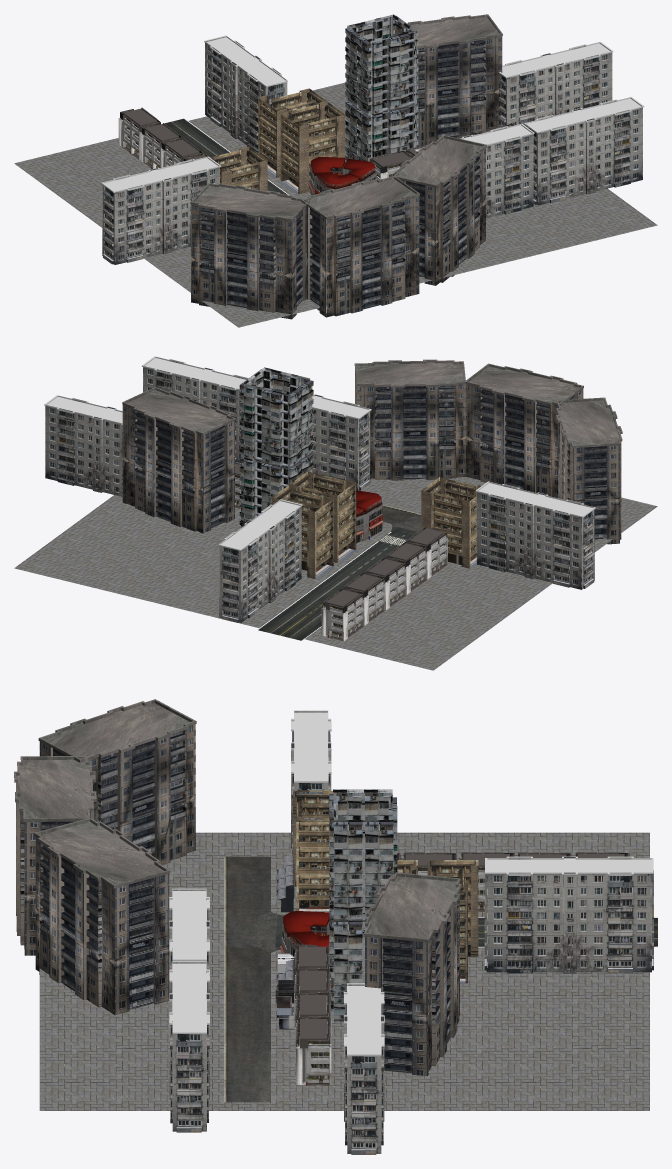
File: street-set.glb
3 renders of one model, top to bottom at view 1: azimuth 30°, elevation 25°; view 2: azimuth 150°, elevation 25°; view 3: azimuth 270°, elevation 25°, orthographic. The views are drawn at different scales.
Visible parts, largest first — view 1: Cube_da2642e543a3f06231cecae91a2562d4_0, Cube.003_56ef4e30bfca8ac25300c77d7c17d7bc_0, Plane.001_Material.006_0, Cube_Material.003_0, 1 (1)_1 (1)_0, 2 (1).001_2 (1)_0, Cube.003_Material.004_0, Cube.001_c83d86f3dd59d547cc310ce502d8f9ac_0, object 4, Cube.001_Material.007_0, Plane_Material.005_0; view 2: Cube_da2642e543a3f06231cecae91a2562d4_0, Plane.001_Material.006_0, Cube.003_56ef4e30bfca8ac25300c77d7c17d7bc_0, Cube_Material.003_0, 2 (1).001_2 (1)_0, 1 (1)_1 (1)_0, Cube.003_Material.004_0, Cube.001_c83d86f3dd59d547cc310ce502d8f9ac_0, Plane_Material.005_0, Cube.001_Material.007_0, object 4; view 3: Plane.001_Material.006_0, Cube_da2642e543a3f06231cecae91a2562d4_0, Cube.003_56ef4e30bfca8ac25300c77d7c17d7bc_0, Cube_Material.003_0, Cube.003_Material.004_0, Plane_Material.005_0, 1 (1)_1 (1)_0, 2 (1).001_2 (1)_0, Cube.001_c83d86f3dd59d547cc310ce502d8f9ac_0, Cube.001_Material.007_0, object 4, 4_4_0.
Boxes of the visible parts, bbox=[...] form: Cube_da2642e543a3f06231cecae91a2562d4_0: bbox=[191, 36, 502, 319]; Cube.003_56ef4e30bfca8ac25300c77d7c17d7bc_0: bbox=[102, 36, 642, 264]; Plane.001_Material.006_0: bbox=[14, 82, 657, 327]; Cube_Material.003_0: bbox=[190, 14, 502, 221]; 1 (1)_1 (1)_0: bbox=[345, 14, 418, 161]; 2 (1).001_2 (1)_0: bbox=[210, 88, 345, 194]; Cube.003_Material.004_0: bbox=[101, 35, 644, 192]; Cube.001_c83d86f3dd59d547cc310ce502d8f9ac_0: bbox=[118, 107, 514, 179]; object 4: bbox=[308, 157, 376, 195]; Cube.001_Material.007_0: bbox=[123, 108, 511, 167]; Plane_Material.005_0: bbox=[161, 118, 289, 195]; Cube_da2642e543a3f06231cecae91a2562d4_0: bbox=[122, 369, 621, 544]; Plane.001_Material.006_0: bbox=[14, 462, 657, 670]; Cube.003_56ef4e30bfca8ac25300c77d7c17d7bc_0: bbox=[45, 360, 594, 622]; Cube_Material.003_0: bbox=[122, 359, 622, 448]; 2 (1).001_2 (1)_0: bbox=[272, 471, 481, 579]; 1 (1)_1 (1)_0: bbox=[239, 367, 313, 527]; Cube.003_Material.004_0: bbox=[44, 356, 595, 550]; Cube.001_c83d86f3dd59d547cc310ce502d8f9ac_0: bbox=[235, 462, 447, 641]; Plane_Material.005_0: bbox=[257, 505, 421, 640]; Cube.001_Material.007_0: bbox=[235, 463, 443, 609]; object 4: bbox=[356, 490, 382, 542]; Plane.001_Material.006_0: bbox=[39, 832, 649, 1110]; Cube_da2642e543a3f06231cecae91a2562d4_0: bbox=[16, 724, 459, 1076]; Cube.003_56ef4e30bfca8ac25300c77d7c17d7bc_0: bbox=[169, 711, 653, 1154]; Cube_Material.003_0: bbox=[14, 699, 461, 942]; Cube.003_Material.004_0: bbox=[169, 710, 653, 1056]; Plane_Material.005_0: bbox=[224, 856, 657, 1102]; 1 (1)_1 (1)_0: bbox=[329, 789, 397, 1021]; 2 (1).001_2 (1)_0: bbox=[293, 790, 478, 984]; Cube.001_c83d86f3dd59d547cc310ce502d8f9ac_0: bbox=[294, 852, 629, 1085]; Cube.001_Material.007_0: bbox=[299, 854, 624, 1048]; object 4: bbox=[280, 911, 329, 969]; 4_4_0: bbox=[277, 854, 294, 1003].
Bounding box in the file's own units: 10.87 × 3.07 × 8.58.
Materials: 17 (15 with a texture image).
